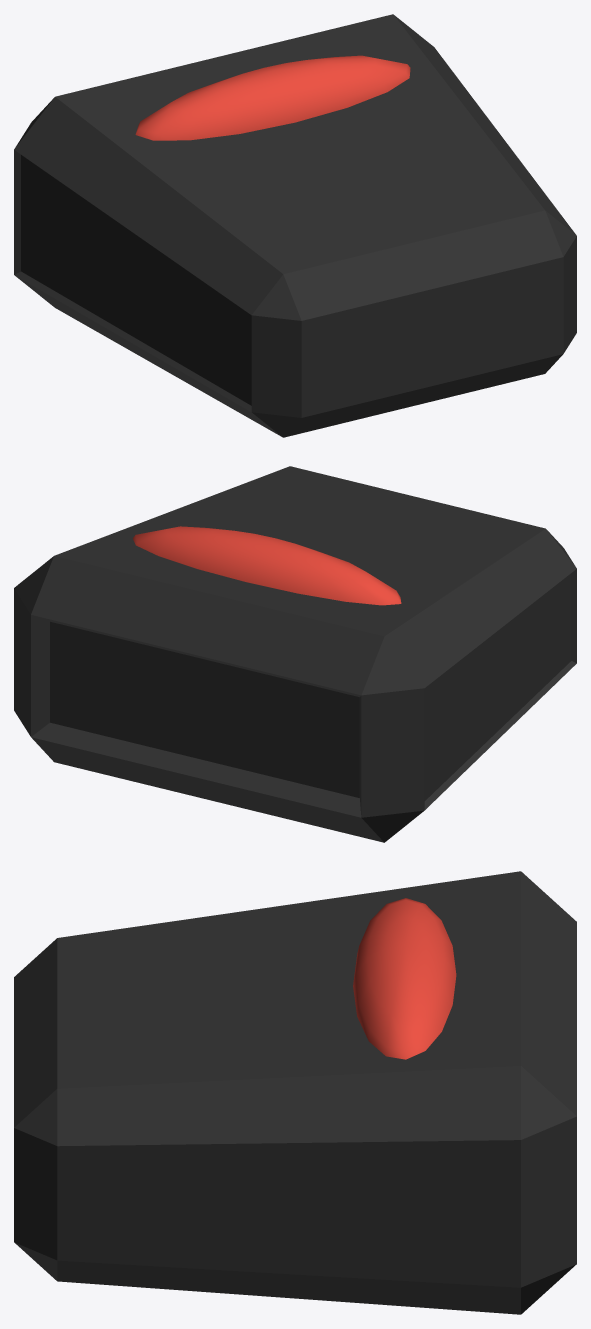
Rendered from Clock.fbx.
The picture shows the model from 3 angles, top to bottom: view 1: azimuth 30°, elevation 25°; view 2: azimuth 150°, elevation 25°; view 3: azimuth 270°, elevation 25°; orthographic projection. The views are drawn at different scales.
Visible parts, largest first — view 1: Cube; view 2: Cube; view 3: Cube.
Boxes of the visible parts, x1=… form: Cube: x1=14, y1=14, x2=576, y2=437; Cube: x1=14, y1=466, x2=576, y2=842; Cube: x1=14, y1=871, x2=576, y2=1314.
Bounding box in the file's own units: 197 × 200 × 105.
